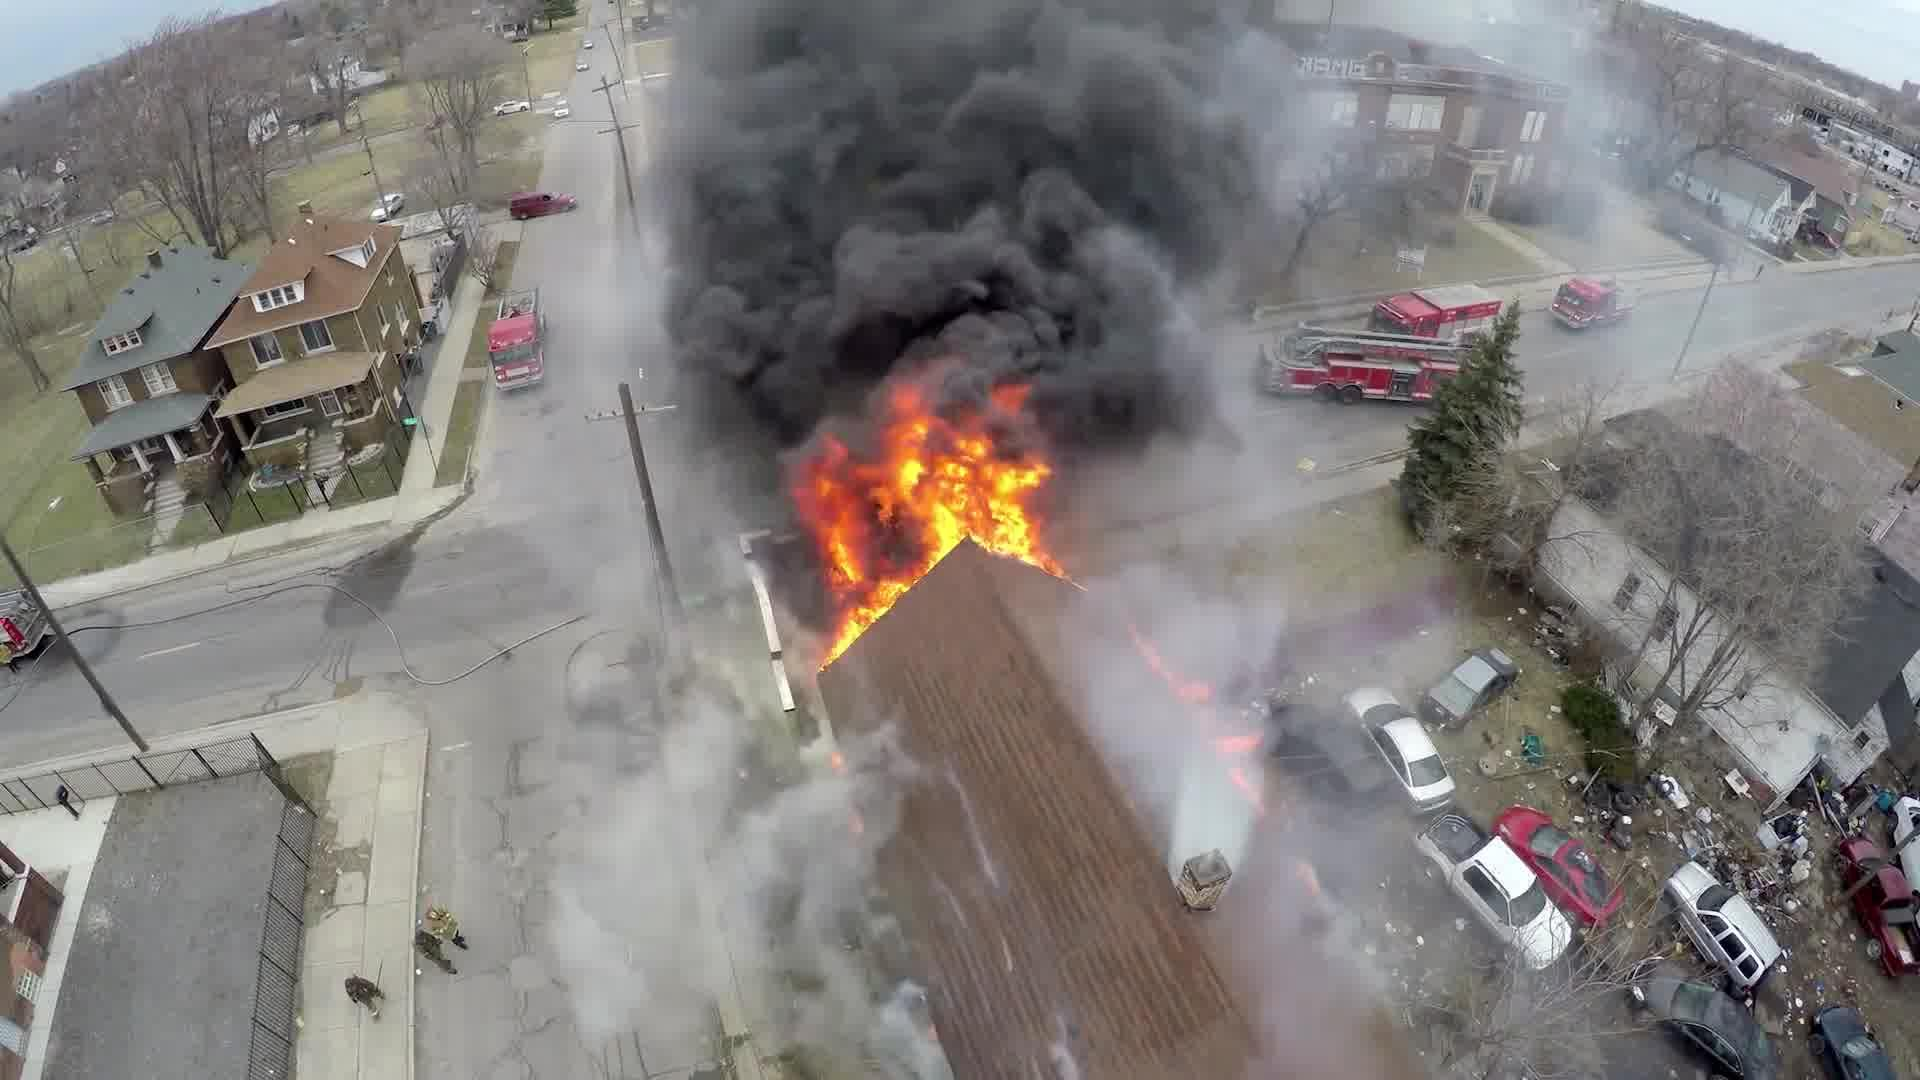fire: (762, 364, 1069, 651)
